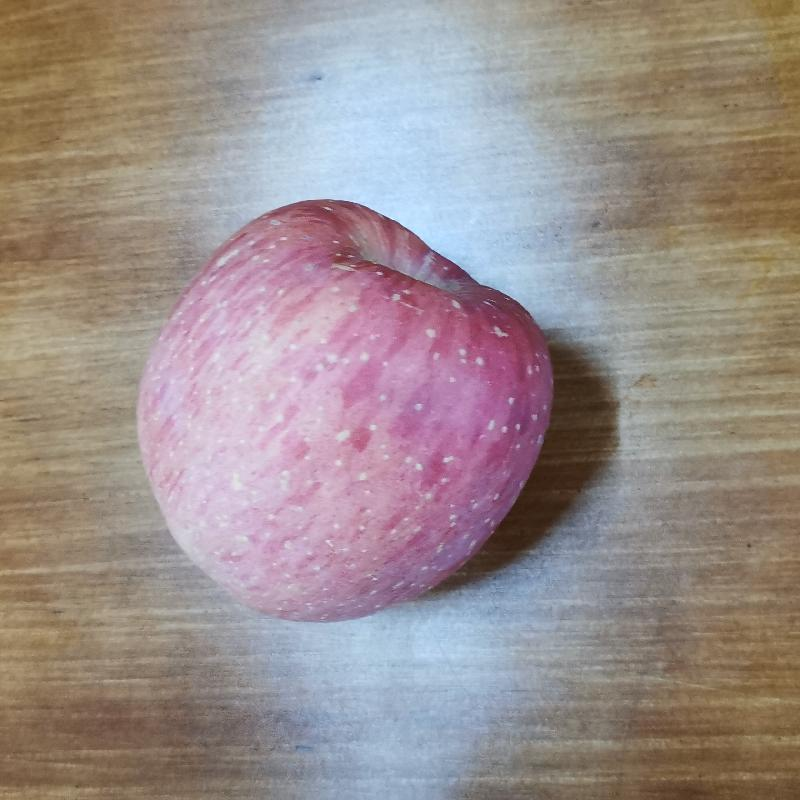apples: (130, 195, 559, 631)
